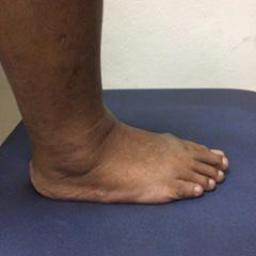Lateral View -Right Foot-: (6, 92, 232, 218)
